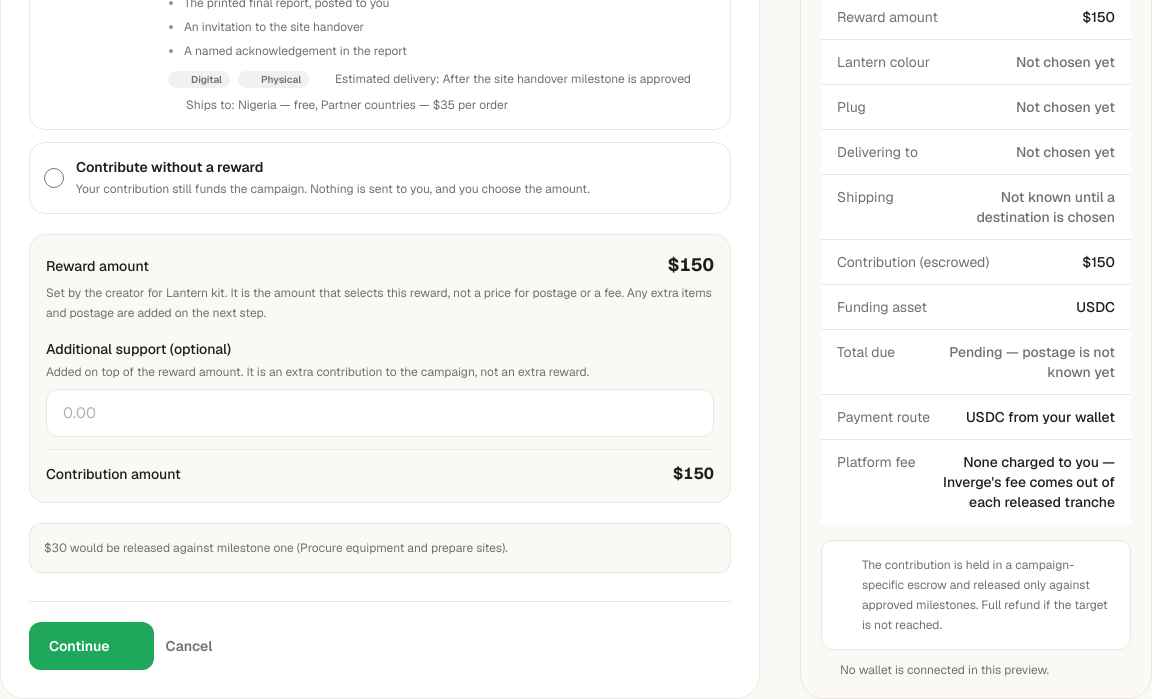
ContributionPreview options and delivery step › will not continue until a destination is chosen, for a reward that posts
(page scrolled)
Click the button "Continue" at [91, 646], box 29,622 -> 154,670
(page scrolled)
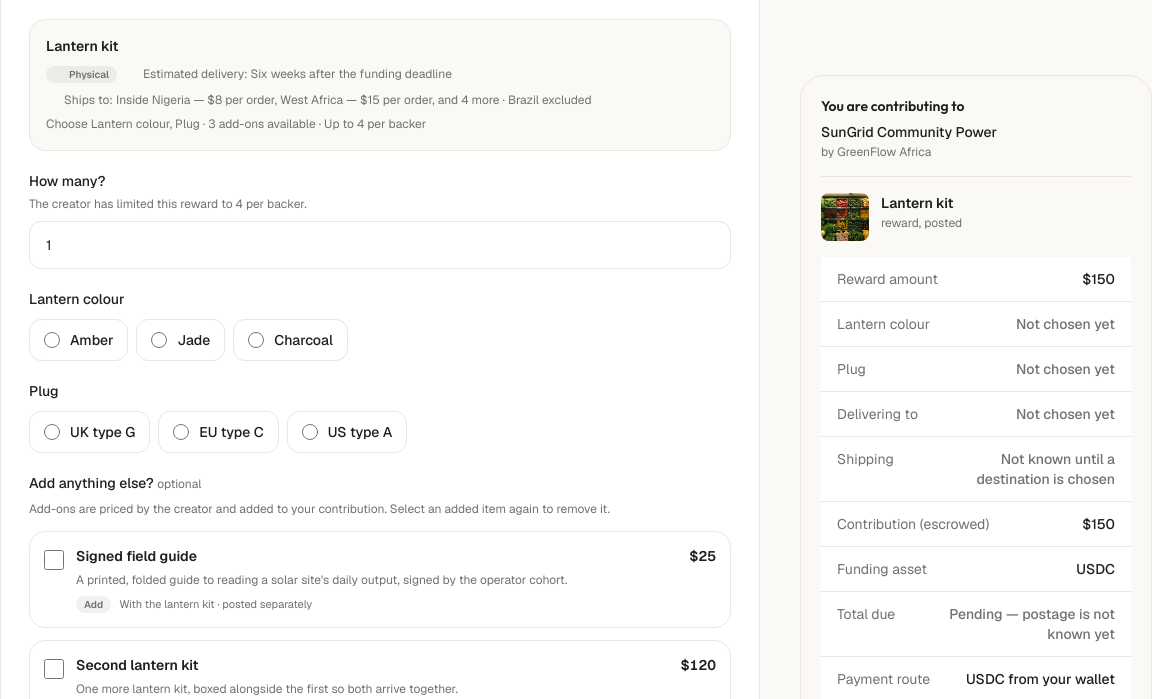
Click the radio button labelled "Amber" at [52, 340], box 44,332 -> 60,348
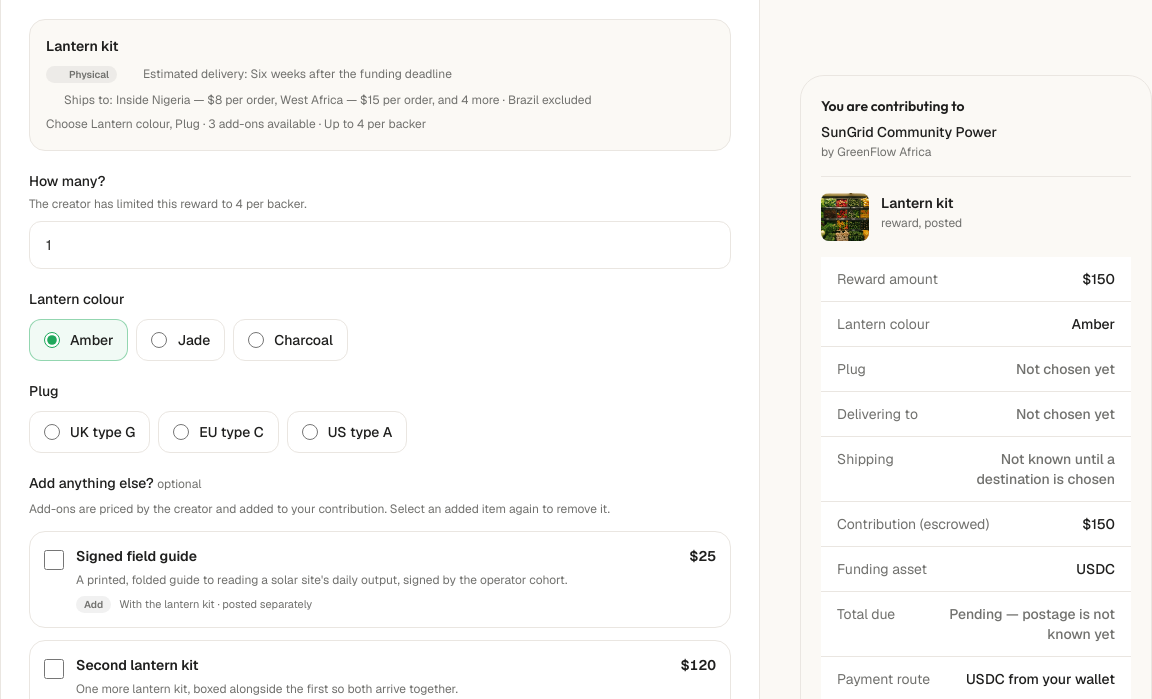
Click the radio button labelled "UK type G" at [52, 432], box 44,424 -> 60,440
(page scrolled)
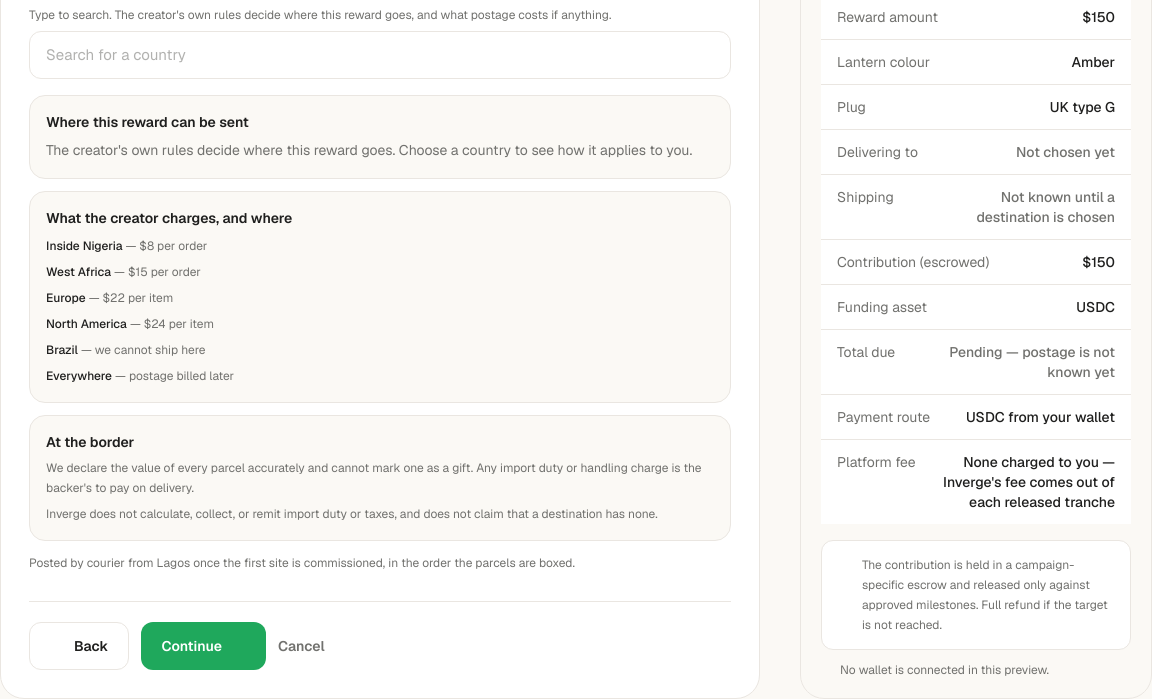
Click the button "Continue" at [204, 646], box 141,622 -> 266,670
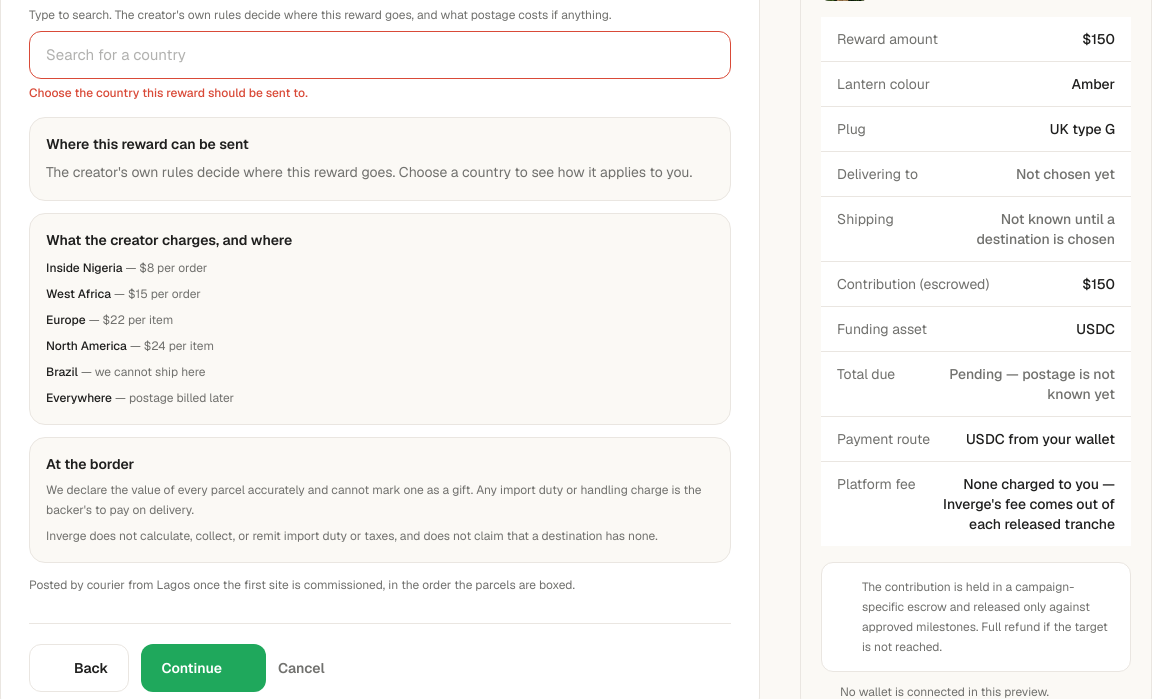
Check: the text "Choose the country this reward should be sent to." is shown, box 29,85 -> 308,101
